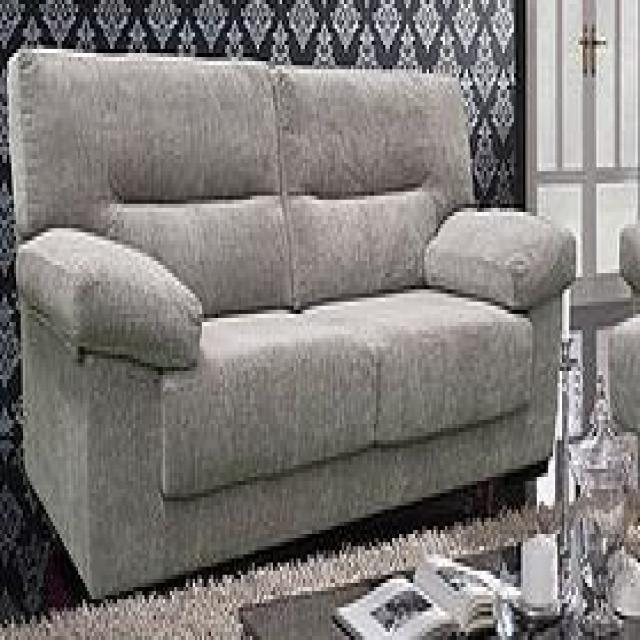sofa: (8, 47, 576, 603)
